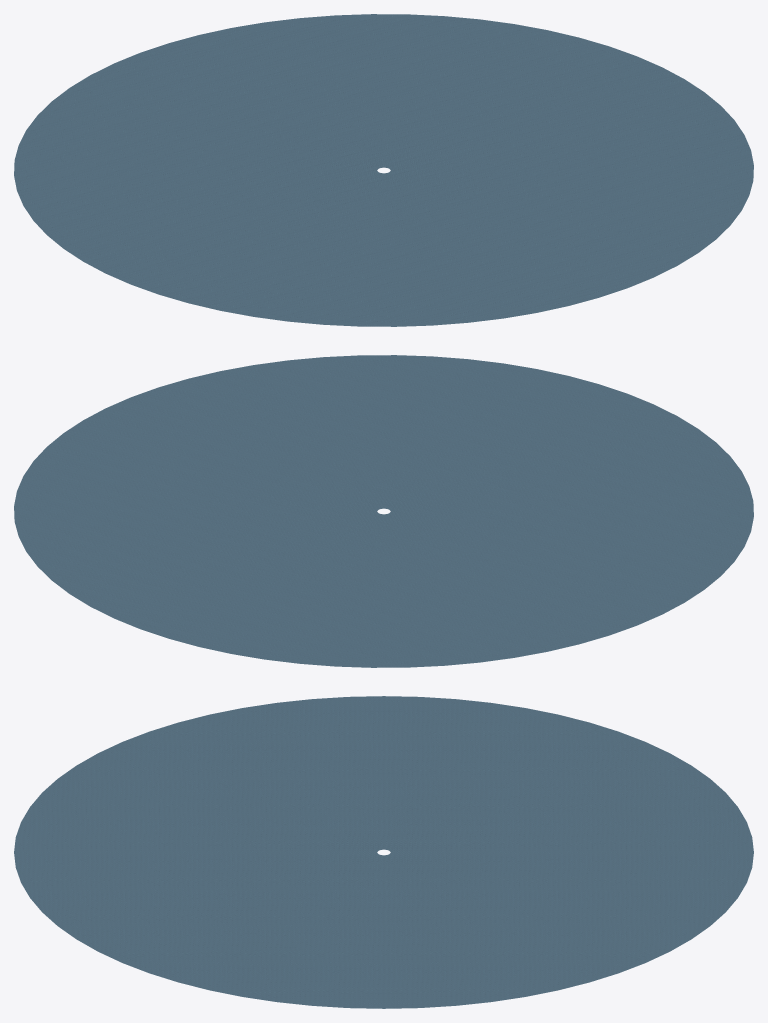
File: rotate.obj
3 views of the same model, one above another, from view 1: azimuth 30°, elevation 25°; view 2: azimuth 150°, elevation 25°; view 3: azimuth 270°, elevation 25° (orthographic).
Visible parts, largest first — view 1: ocean; view 2: ocean; view 3: ocean.
Boxes of the visible parts, x1=… form: ocean: x1=14, y1=14, x2=753, y2=326; ocean: x1=14, y1=355, x2=753, y2=667; ocean: x1=14, y1=696, x2=753, y2=1008.
Size of the model in its own units: 718 by 0 by 718.
1 material, 1 textured.
